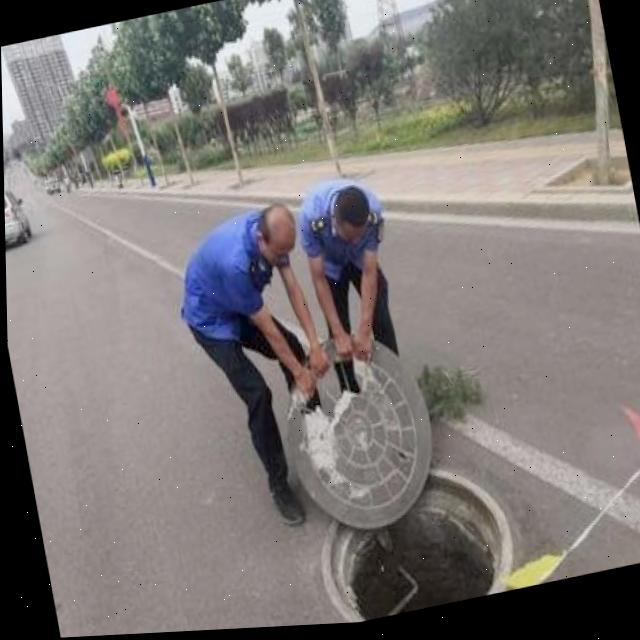manhole: (285, 433, 520, 629)
